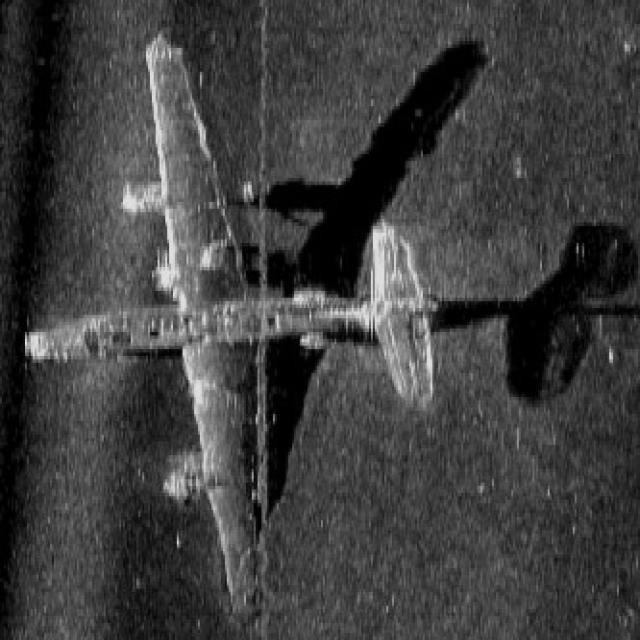plane: (25, 22, 463, 613)
